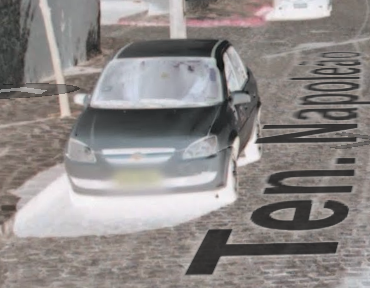car: (62, 36, 268, 209)
